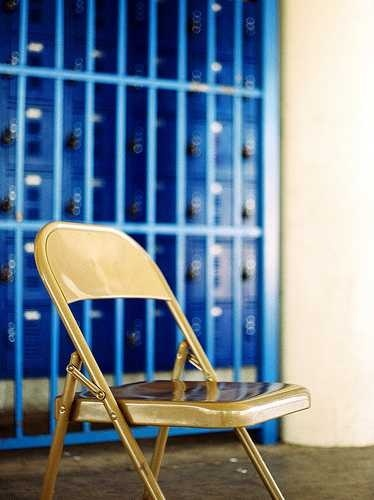obstacle: (0, 0, 278, 443)
